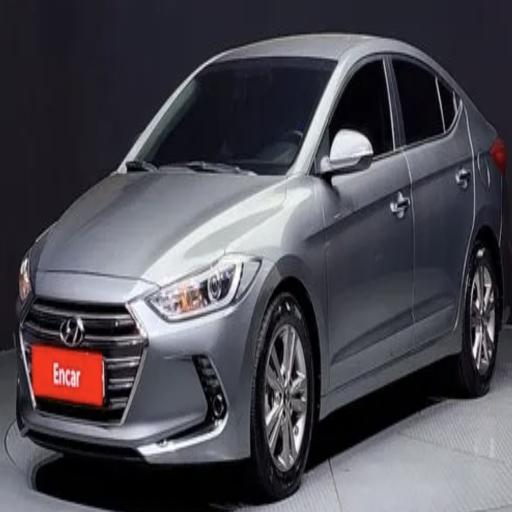normal: (21, 5, 510, 501)
